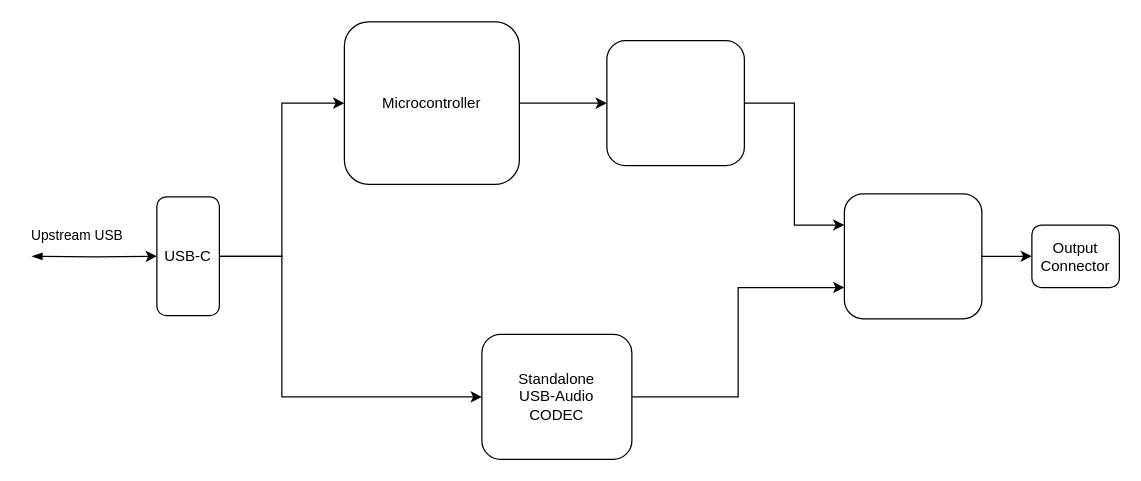
This 1141x481 diagram has some shape labels left out. Each missing label, with the box of its shape:
Amplifier: (843, 192, 982, 319)
I2S DAC: (606, 39, 744, 166)
